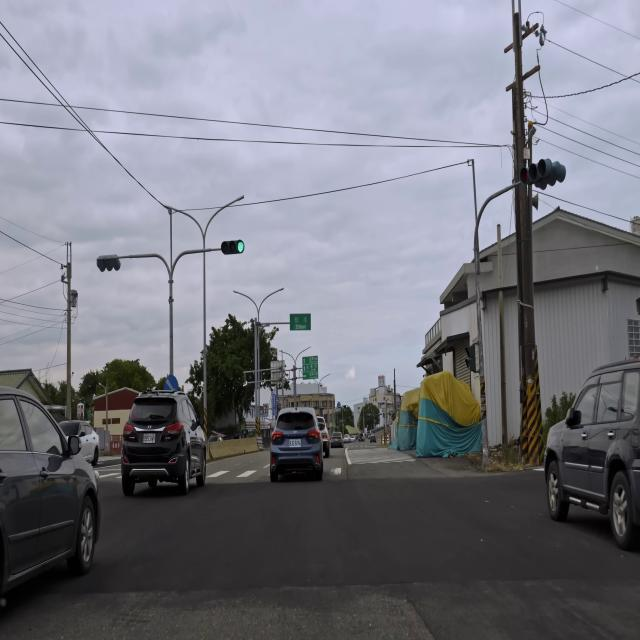green light: (220, 240, 246, 255)
